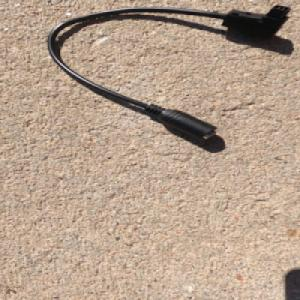Wire: (44, 4, 291, 141)
